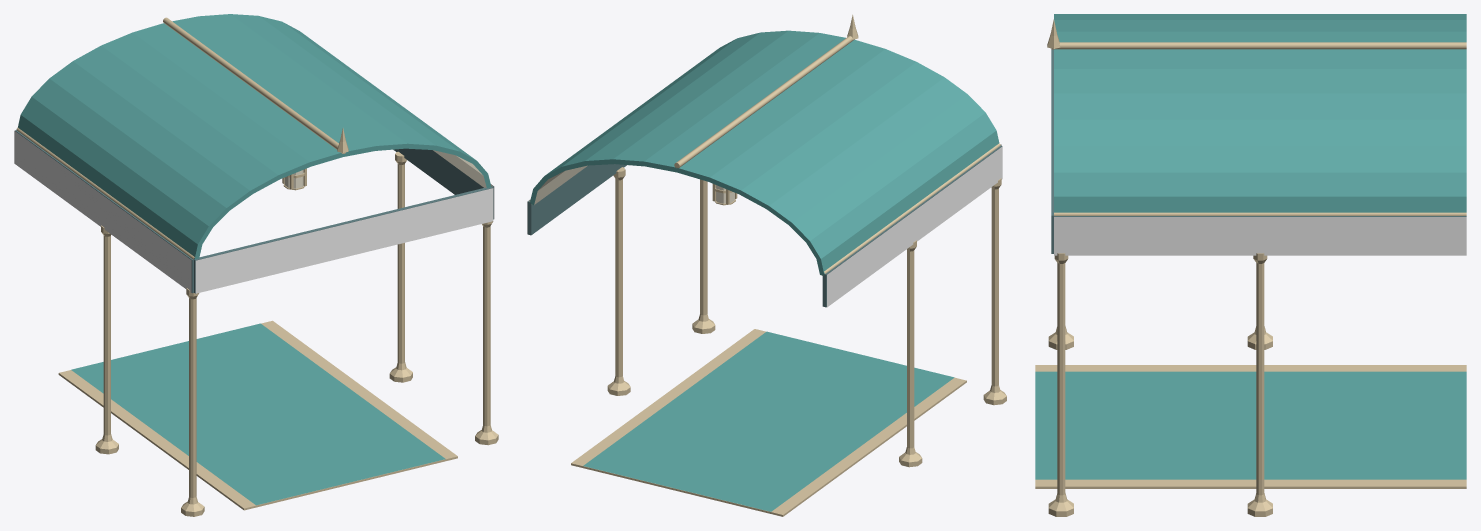
The model's file is KC32__AD_Ext_Awning_Hotel.glb.
3 renders of one model, left to right at view 1: azimuth 30°, elevation 25°; view 2: azimuth 150°, elevation 25°; view 3: azimuth 270°, elevation 25°, orthographic. The views are drawn at different scales.
Parts seen in each view (by area): view 1: KC32_CORPS__AD_Ext_Awning_Hotel, KC32_ACCENT__AD_Ext_Awning_Hotel, KC32_BRONZE__AD_Ext_Awning_Hotel, KC32_LUMIERE__AD_Ext_Awning_Hotel; view 2: KC32_CORPS__AD_Ext_Awning_Hotel, KC32_BRONZE__AD_Ext_Awning_Hotel, KC32_ACCENT__AD_Ext_Awning_Hotel, KC32_LUMIERE__AD_Ext_Awning_Hotel; view 3: KC32_CORPS__AD_Ext_Awning_Hotel, KC32_BRONZE__AD_Ext_Awning_Hotel, KC32_ACCENT__AD_Ext_Awning_Hotel.
Part boxes in pixels (bbox=[...]): KC32_CORPS__AD_Ext_Awning_Hotel: bbox=[15, 14, 493, 505]; KC32_ACCENT__AD_Ext_Awning_Hotel: bbox=[14, 130, 494, 293]; KC32_BRONZE__AD_Ext_Awning_Hotel: bbox=[16, 17, 498, 516]; KC32_LUMIERE__AD_Ext_Awning_Hotel: bbox=[284, 150, 486, 188]; KC32_CORPS__AD_Ext_Awning_Hotel: bbox=[527, 30, 1002, 511]; KC32_BRONZE__AD_Ext_Awning_Hotel: bbox=[529, 14, 1006, 516]; KC32_ACCENT__AD_Ext_Awning_Hotel: bbox=[527, 144, 1002, 307]; KC32_LUMIERE__AD_Ext_Awning_Hotel: bbox=[534, 165, 734, 204]; KC32_CORPS__AD_Ext_Awning_Hotel: bbox=[1035, 14, 1466, 479]; KC32_BRONZE__AD_Ext_Awning_Hotel: bbox=[1035, 19, 1466, 516]; KC32_ACCENT__AD_Ext_Awning_Hotel: bbox=[1054, 217, 1466, 255].
Bounding box in the file's own units: 3.36 × 3.61 × 3.45.
